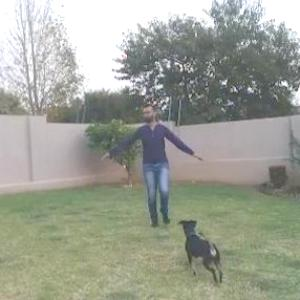land: (78, 96, 209, 254)
